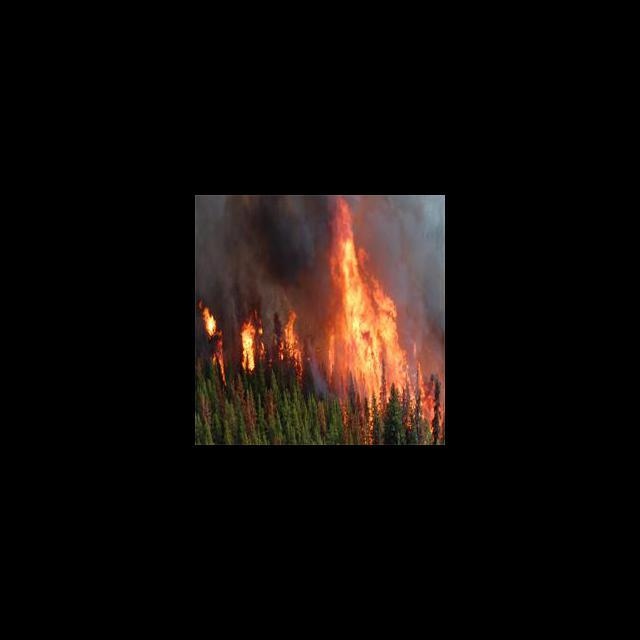Fire: (198, 205, 442, 430)
